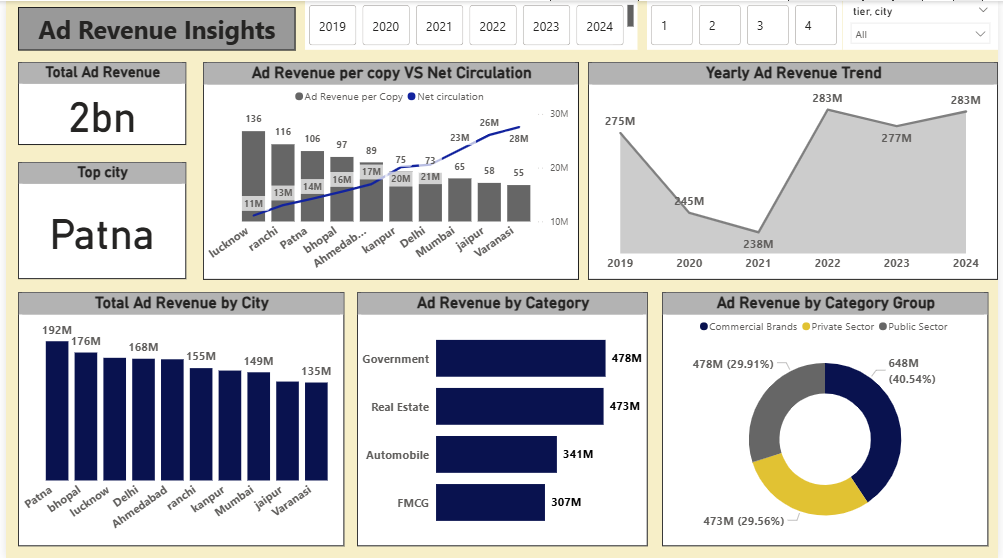

What the dashboard file says about the page in this screenshot:
{"tool":"powerbi","page":{"name":"Ad Revenue Insights","canvas":[1280,720],"ordinal":1},"visuals":[{"type":"donutChart","title":"Ad Revenue by Category Group","fields":{"Category":["ad_category.category_group"],"Y":["Sum(fact_ad_revenue.ad_revenue)"]},"box":[846.2,375.3,421,328.2],"z":0},{"type":"clusteredColumnChart","title":"Total Ad Revenue by City","fields":{"Category":["city.city"],"Y":["fact_ad_revenue.total ad revenue(bridge table)"]},"box":[15.7,375.3,421,328.2],"z":1000},{"type":"advancedSlicerVisual","fields":{"Values":["date.Quater"]},"box":[827.7,0,252.1,62.6],"z":2000},{"type":"areaChart","title":"Yearly Ad Revenue Trend","fields":{"Category":["Quarter_Year.Year"],"Y":["Sum(fact_ad_revenue.ad_revenue)"]},"box":[750.6,78.5,529.4,281.1],"z":3000},{"type":"clusteredBarChart","title":"Ad Revenue by Category","fields":{"Category":["ad_category.standard_ad_category"],"Y":["Sum(fact_ad_revenue.ad_revenue)"]},"box":[452.4,375.3,375.3,328.2],"z":4000},{"type":"advancedSlicerVisual","fields":{"Values":["Quarter_Year.Year"]},"box":[386.1,0,429.1,62.6],"z":5000},{"type":"slicer","fields":{"Values":["city.tier","city.city"]},"box":[1079.8,0,200.2,62.6],"z":6000},{"type":"card","title":"Total Ad Revenue","fields":{"Values":["fact_ad_revenue.Total Ad Revenue"]},"box":[15.7,78.5,216.9,107],"z":7000},{"type":"textbox","box":[15.7,7.1,358.2,55.7],"z":8000},{"type":"lineClusteredColumnComboChart","title":"Ad Revenue per copy VS Net Circulation","fields":{"Category":["city.city"],"Y":["fact_print_sales.Ad Revenue per Copy"],"Y2":["fact_print_sales.total net circulation"]},"box":[254,78.5,485.2,281.1],"z":9000},{"type":"card","title":"Top city","fields":{"Values":["fact_ad_revenue.Ad revenue city rank1"]},"box":[15.7,208.3,216.9,151.3],"z":10000}]}

Visuals, with their boxes in screenshot pixels (x1, y1, x2, y2), scaled from the page's 1280x720 canvas onto the 1003x558 screenshot:
"Ad Revenue by Category Group" donutChart: (left=663, top=291, right=993, bottom=545)
"Total Ad Revenue by City" clusteredColumnChart: (left=12, top=291, right=342, bottom=545)
advancedSlicerVisual - date.Quater: (left=649, top=0, right=846, bottom=49)
"Yearly Ad Revenue Trend" areaChart: (left=588, top=61, right=1002, bottom=279)
"Ad Revenue by Category" clusteredBarChart: (left=354, top=291, right=649, bottom=545)
advancedSlicerVisual - Quarter_Year.Year: (left=303, top=0, right=639, bottom=49)
slicer - city.tier x city.city: (left=846, top=0, right=1002, bottom=49)
"Total Ad Revenue" card: (left=12, top=61, right=182, bottom=144)
textbox: (left=12, top=6, right=293, bottom=49)
"Ad Revenue per copy VS Net Circulation" lineClusteredColumnComboChart: (left=199, top=61, right=579, bottom=279)
"Top city" card: (left=12, top=161, right=182, bottom=279)
